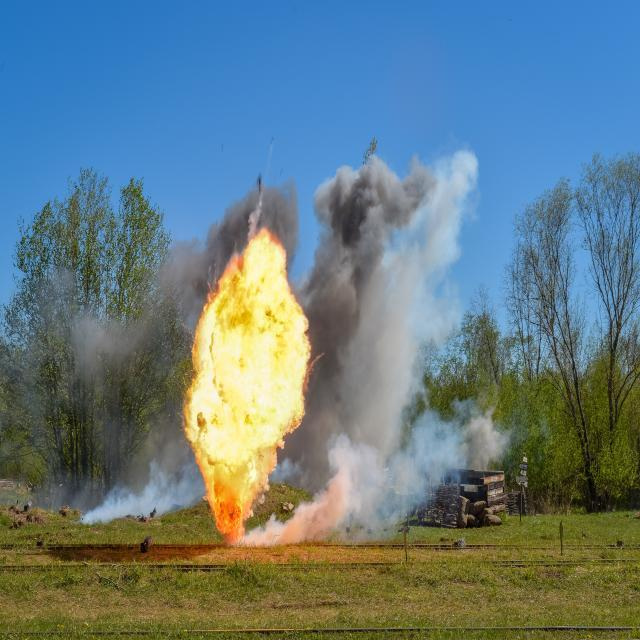Fire: (180, 218, 310, 560)
Smoke: (310, 145, 509, 542), (19, 235, 177, 521)
